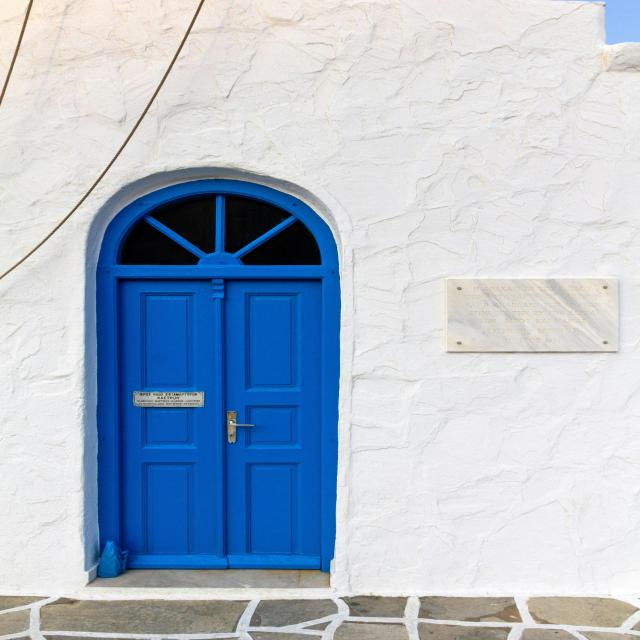door-handle: (229, 421, 255, 426)
